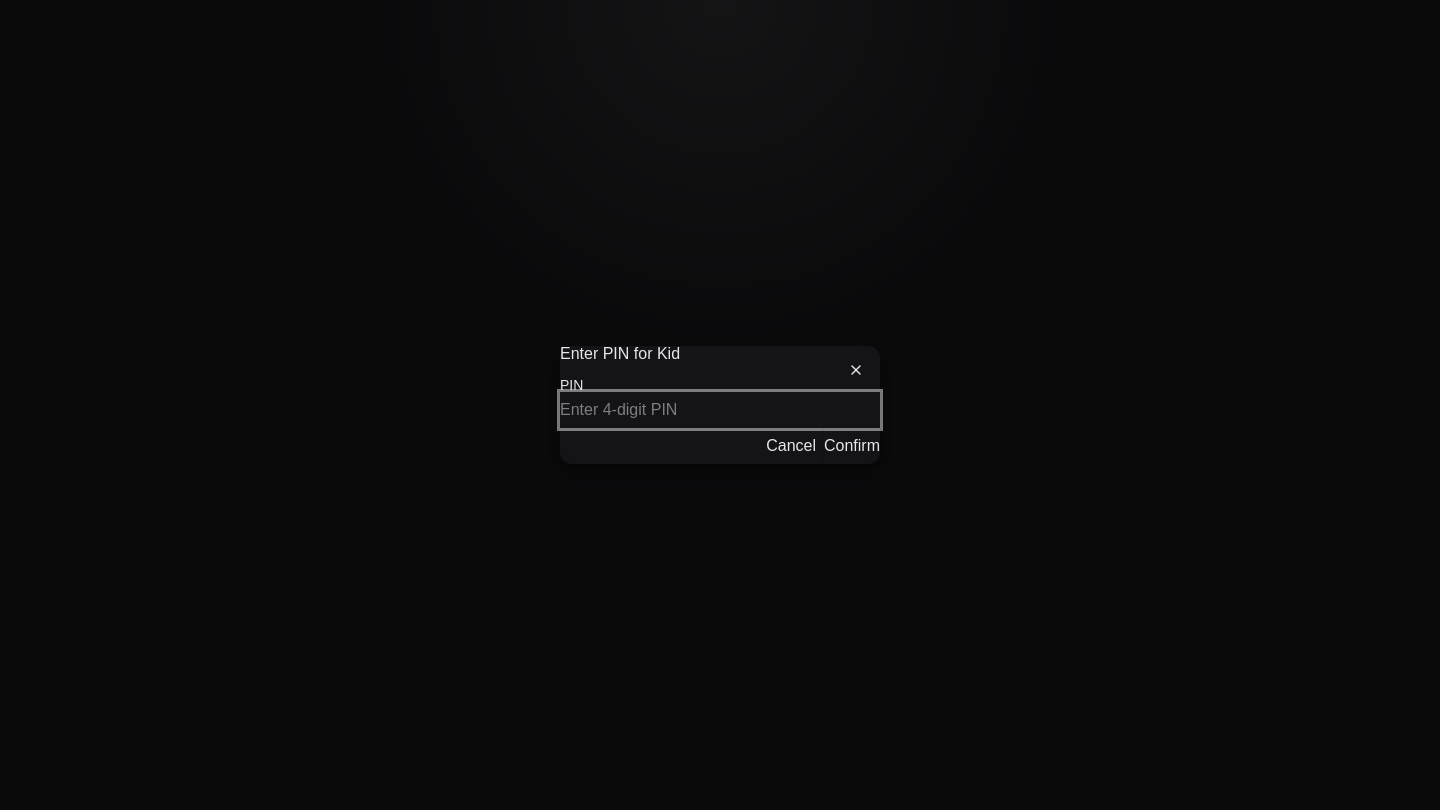
ProfilePinDialog › ignores a check that finishes after the dialog was cancelled
Step 1. Type "1234" into the password field labelled "PIN" → (720, 410), box [560, 392, 880, 428]
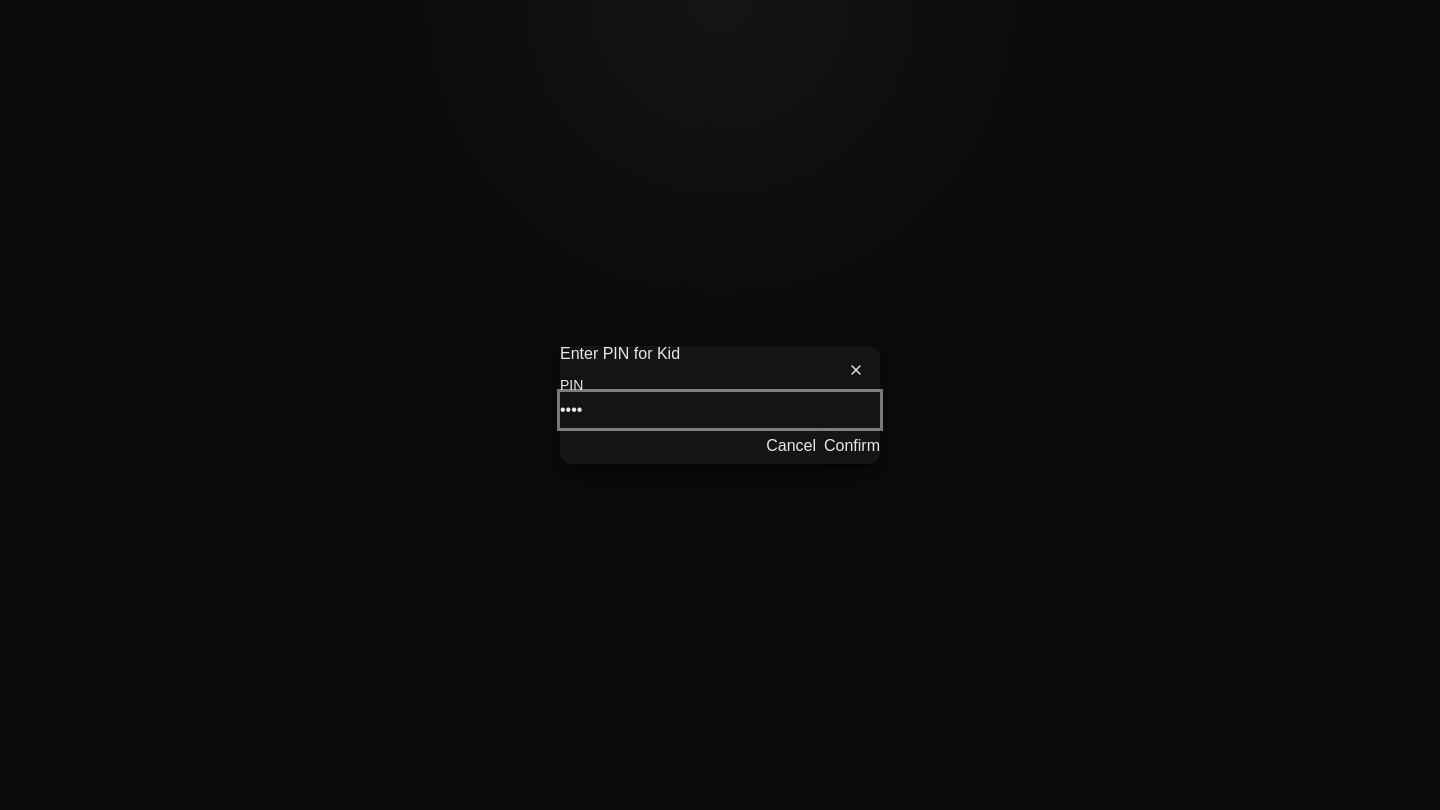
Step 2. Click the button "Confirm" → (852, 446), box [824, 428, 880, 464]
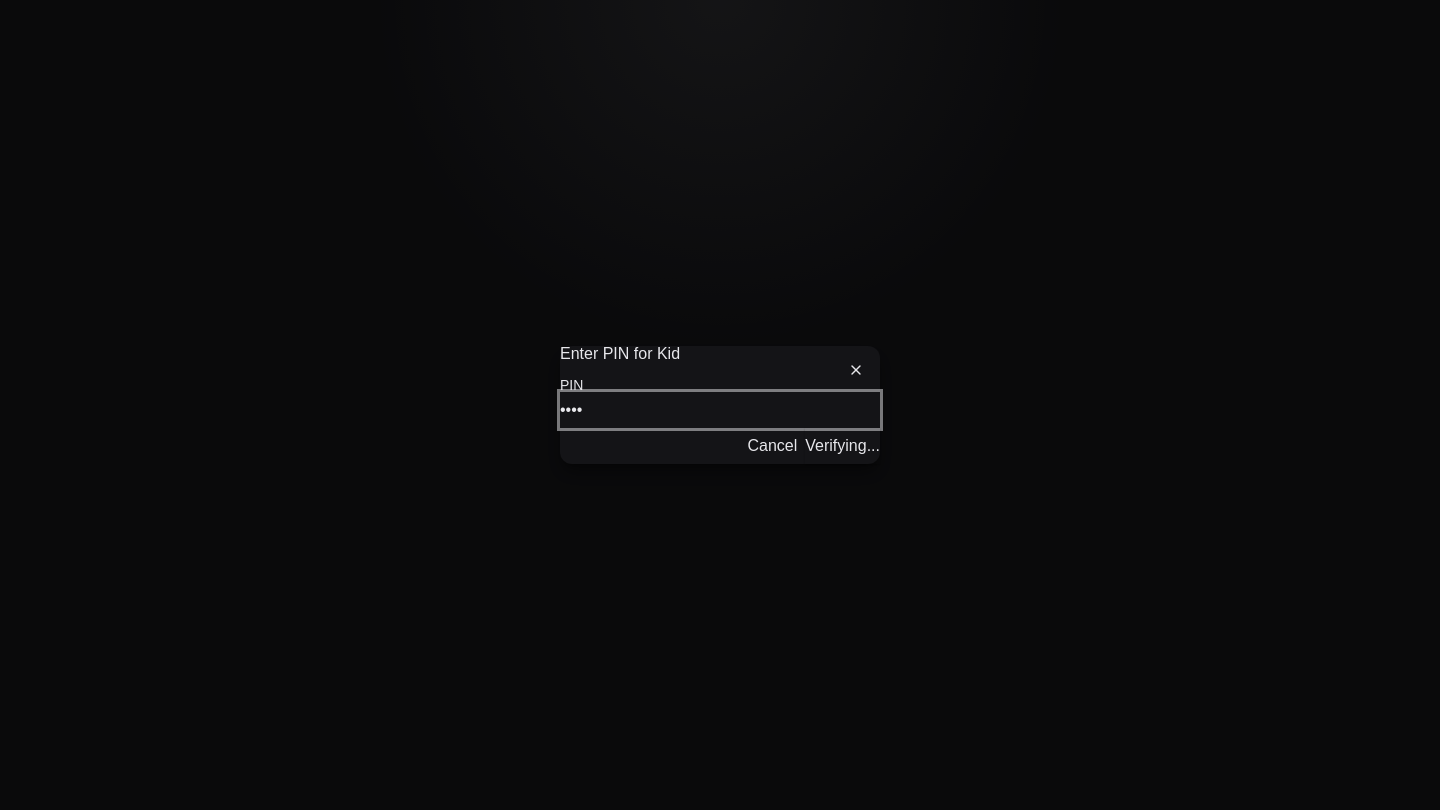
Step 3. Click the button "Cancel" → (772, 446), box [748, 428, 797, 464]
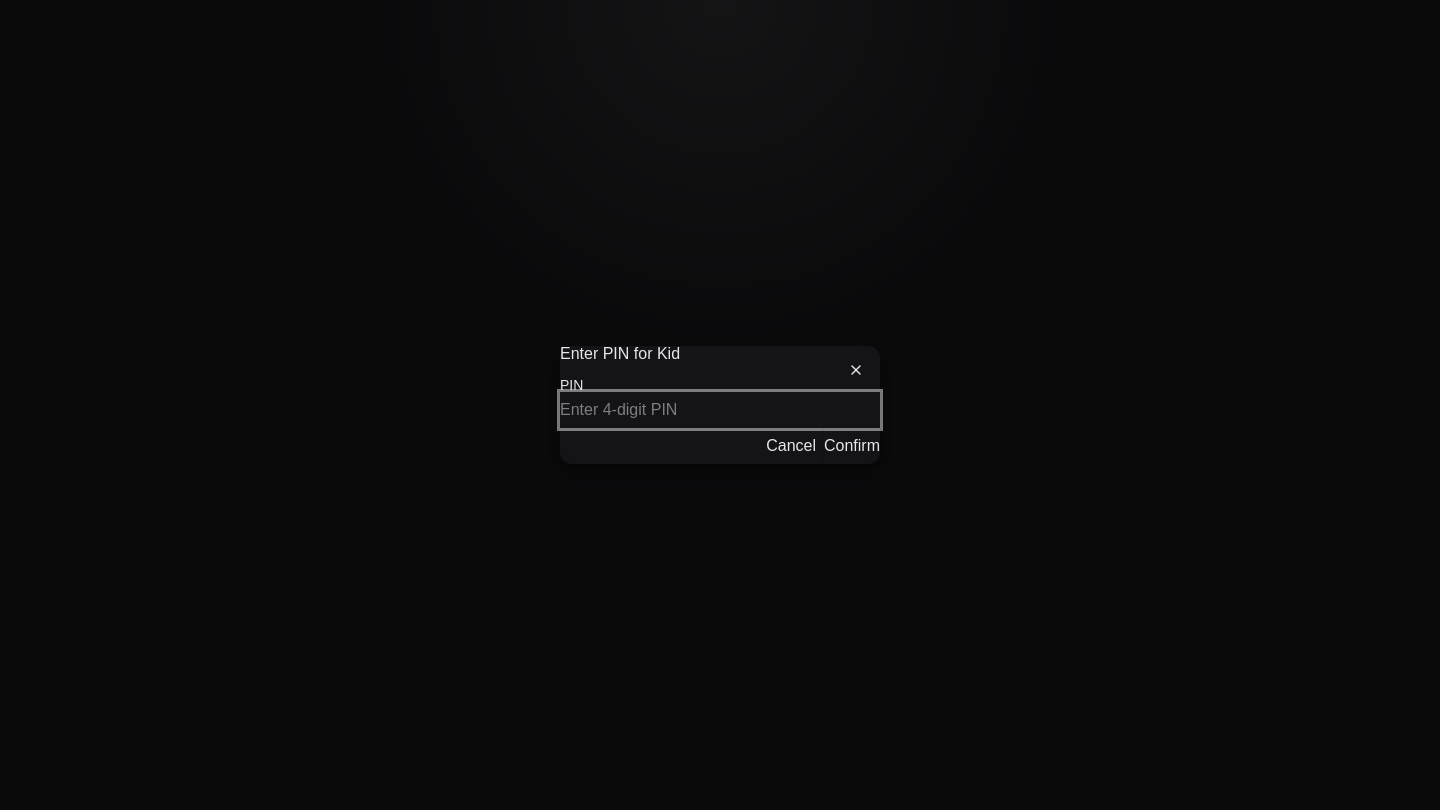
Check: the button "Confirm" is shown, box [824, 428, 880, 464]
